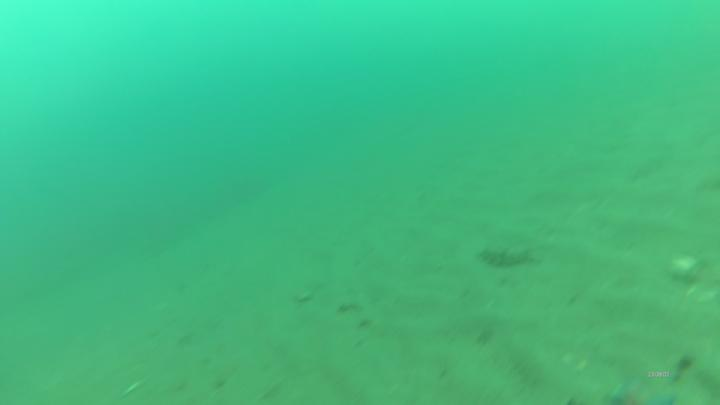holothurian: (471, 242, 544, 271)
starfish: (605, 369, 680, 405)
